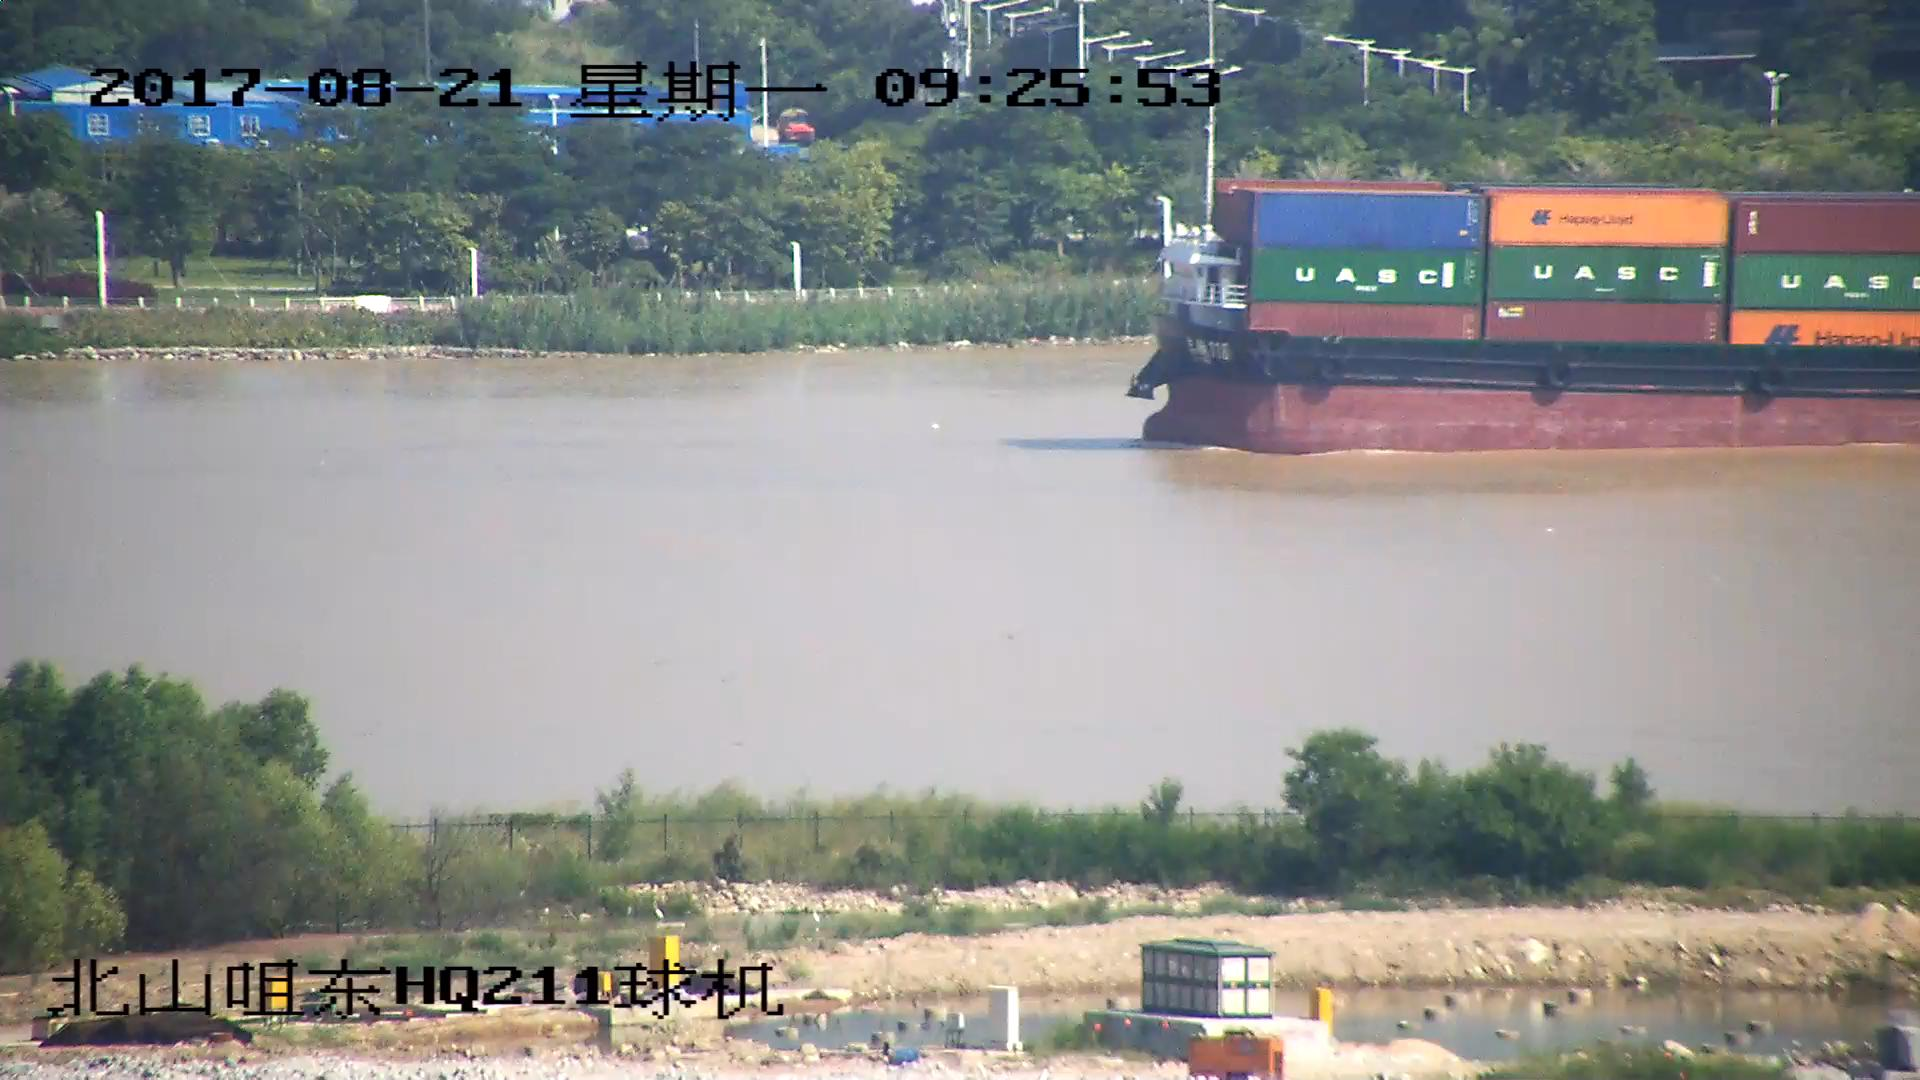container ship: (1123, 110, 1920, 449)
